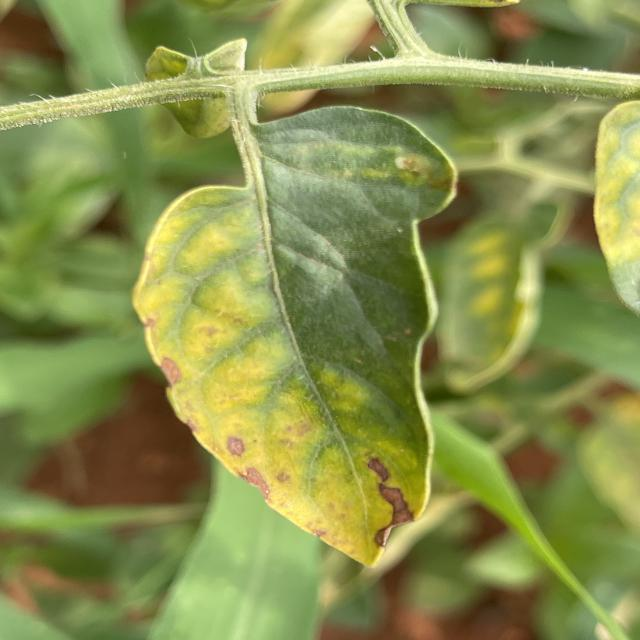tomato_early blight: (133, 106, 456, 566), (428, 190, 565, 384), (582, 92, 640, 314)
